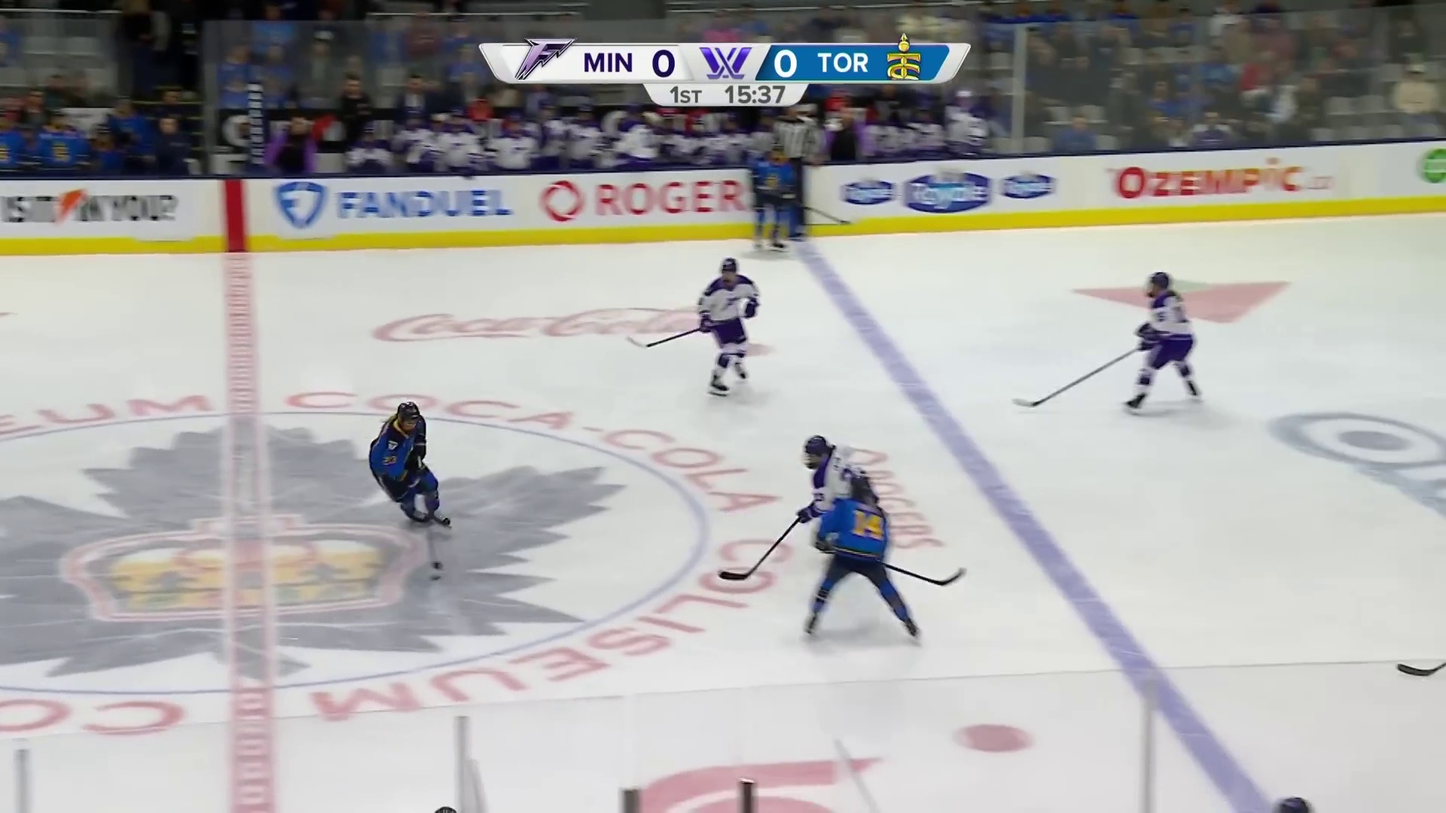player: (799, 471, 923, 638), (367, 395, 457, 532), (1123, 269, 1205, 413), (698, 255, 757, 395), (799, 438, 861, 520), (753, 142, 790, 255)
puck: (431, 575, 443, 580)
